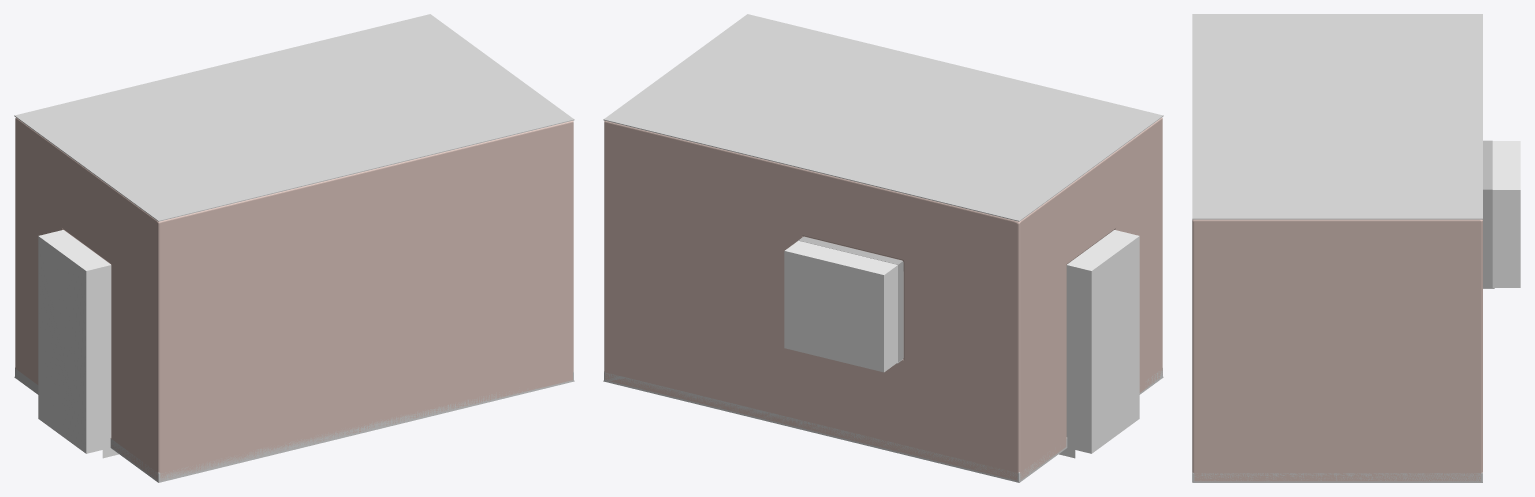
Rendered from room_1.fbx.
3 views of the same model, side by side, from view 1: azimuth 30°, elevation 25°; view 2: azimuth 150°, elevation 25°; view 3: azimuth 270°, elevation 25° (orthographic).
Parts seen in each view (by area): view 1: Room, Ceiling, CTRL_Hole, Baseboard, Floor; view 2: Room, Ceiling, CTRL_Hole, CTRL_Hole.001, Baseboard, Floor, Blind_box; view 3: Room, Ceiling, CTRL_Hole.001, Baseboard, Blind_rails, Blind_box.
Part boxes in pixels (box(x1,y1,x2,y2)): Room: box(15, 117, 573, 480); Ceiling: box(14, 14, 574, 221); CTRL_Hole: box(38, 230, 111, 453); Baseboard: box(15, 367, 573, 481); Floor: box(14, 376, 574, 482); Room: box(604, 117, 1162, 480); Ceiling: box(603, 14, 1163, 221); CTRL_Hole: box(1066, 230, 1139, 453); CTRL_Hole.001: box(784, 240, 897, 372); Baseboard: box(604, 368, 1162, 481); Floor: box(603, 376, 1163, 482); Blind_box: box(798, 236, 903, 274); Room: box(1192, 219, 1482, 481); Ceiling: box(1192, 14, 1482, 219); CTRL_Hole.001: box(1492, 141, 1520, 287); Baseboard: box(1192, 472, 1482, 481); Blind_rails: box(1483, 200, 1492, 287); Blind_box: box(1483, 140, 1492, 200).
Bounding box in the file's own units: 529 × 311 × 339.
